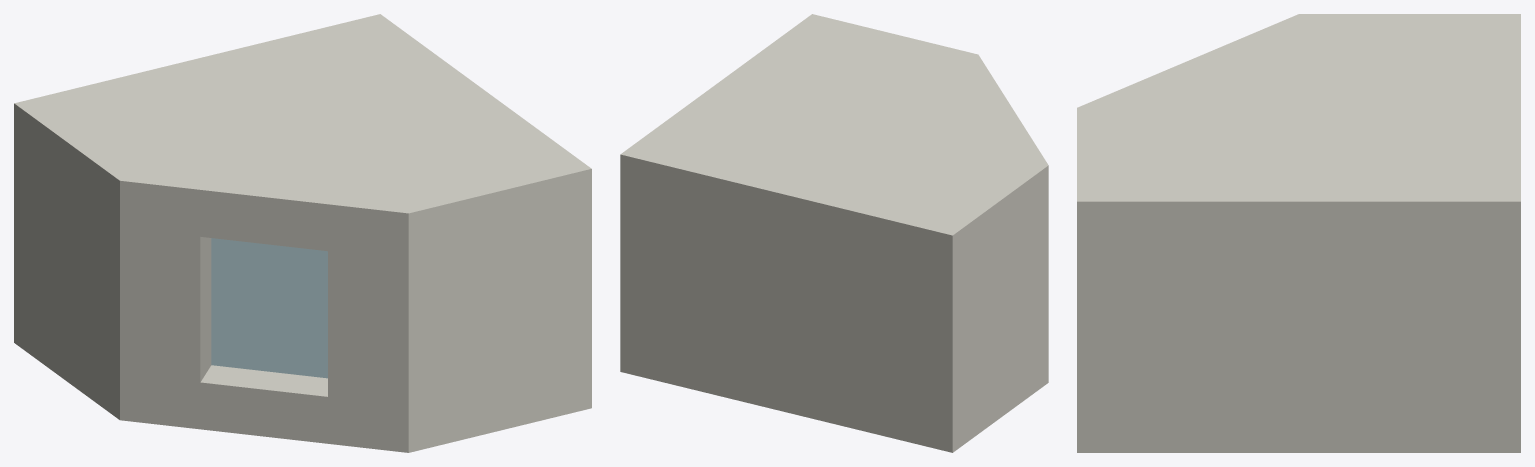
The model's file is building_049.glb.
3 views of the same model, side by side, from view 1: azimuth 30°, elevation 25°; view 2: azimuth 150°, elevation 25°; view 3: azimuth 270°, elevation 25° (orthographic). The views are drawn at different scales.
Visible parts, largest first — view 1: building_049; view 2: building_049; view 3: building_049.
Boxes of the visible parts, bbox=[...] form: building_049: bbox=[14, 14, 591, 452]; building_049: bbox=[620, 14, 1048, 452]; building_049: bbox=[1077, 14, 1520, 452].
Bounding box in the file's own units: 1 × 0.625 × 1.
